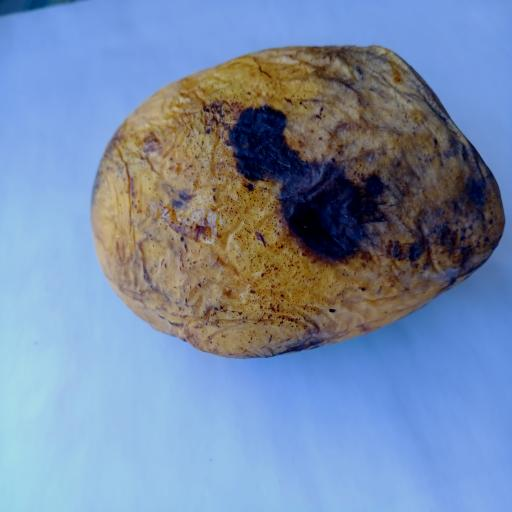mango-overripe: (69, 34, 512, 363)
